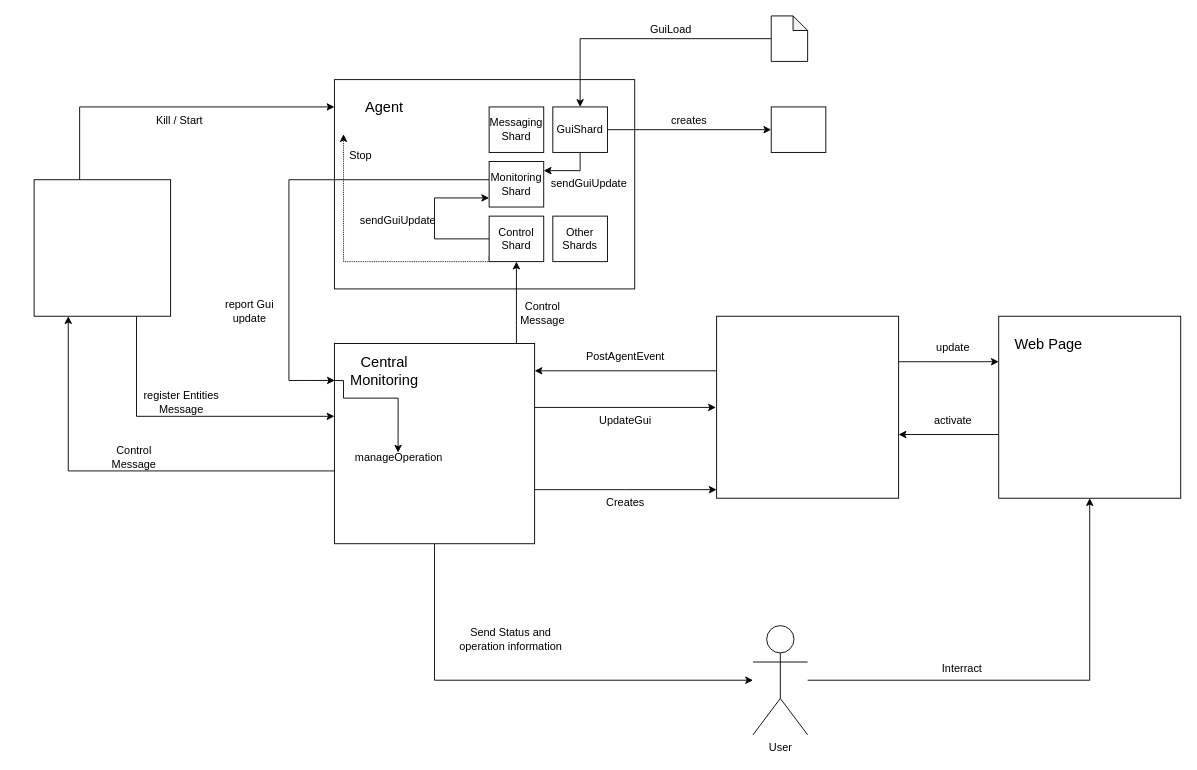
Some shapes in this 1197 by 770 pixel diagram are drawn without their labels. The shapes that lost their labels are listed below. From the top down, each one's centre as x and y in pixels, then its label:
At point 789,38: ".yaml".
At point 798,129: "SwingGui".
At point 102,247: "Node".
At point 807,406: "Web Entity".
